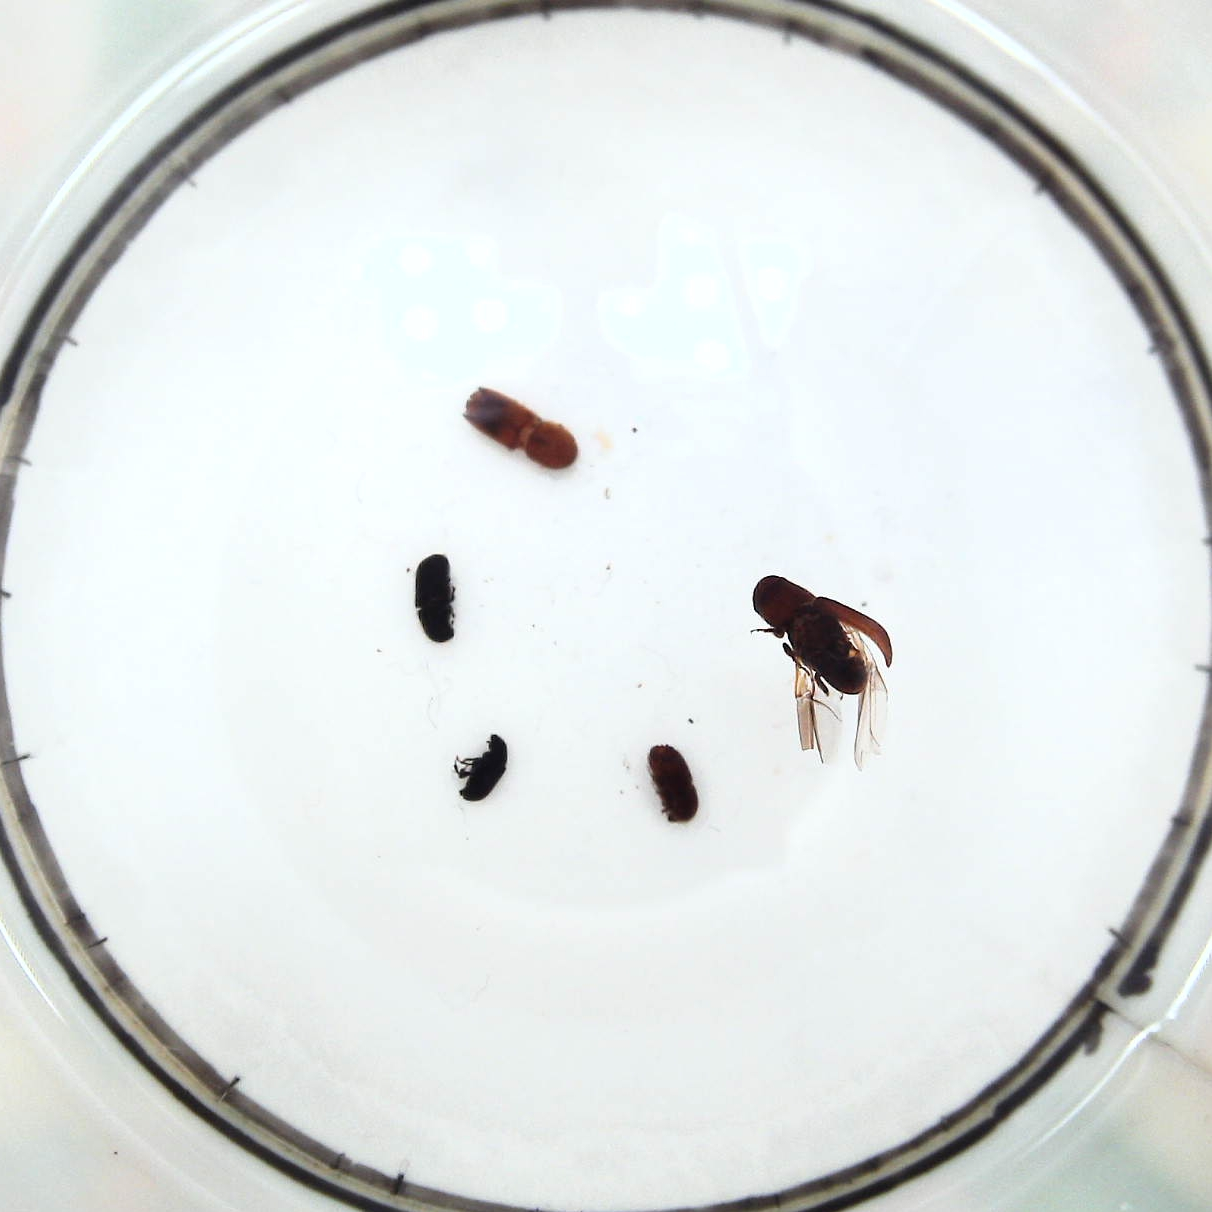Boerner: (457, 384, 578, 467)
Leconte: (751, 575, 897, 760)
Linnaeus: (642, 743, 701, 825)
armandi: (414, 551, 459, 648)
coleoptera: (456, 734, 508, 800)
